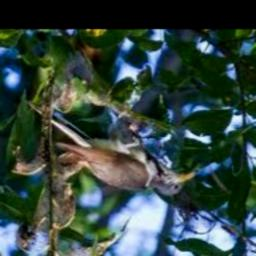Cuckoo: (24, 98, 194, 196)
